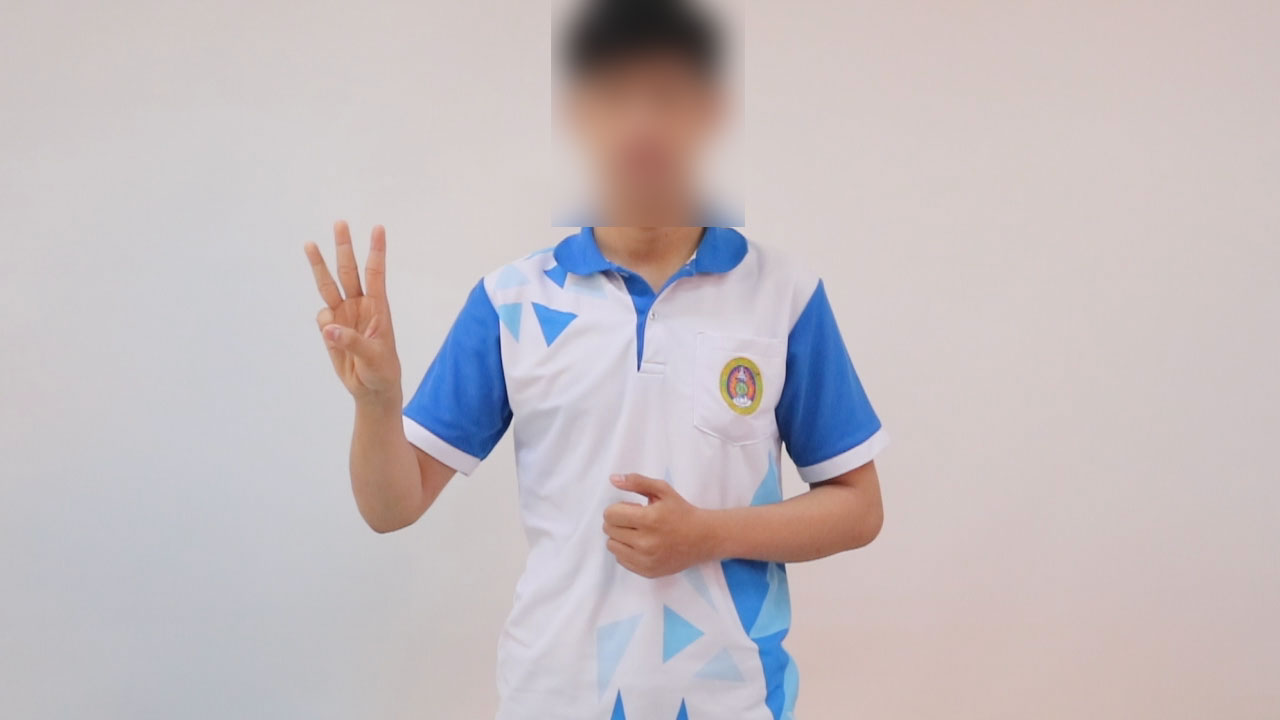wor: (296, 212, 409, 400)
